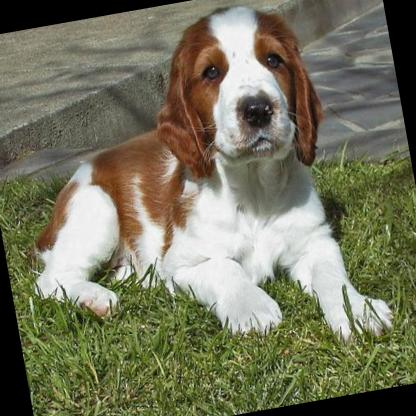Welsh_springer_spaniel: (0, 0, 398, 396)
